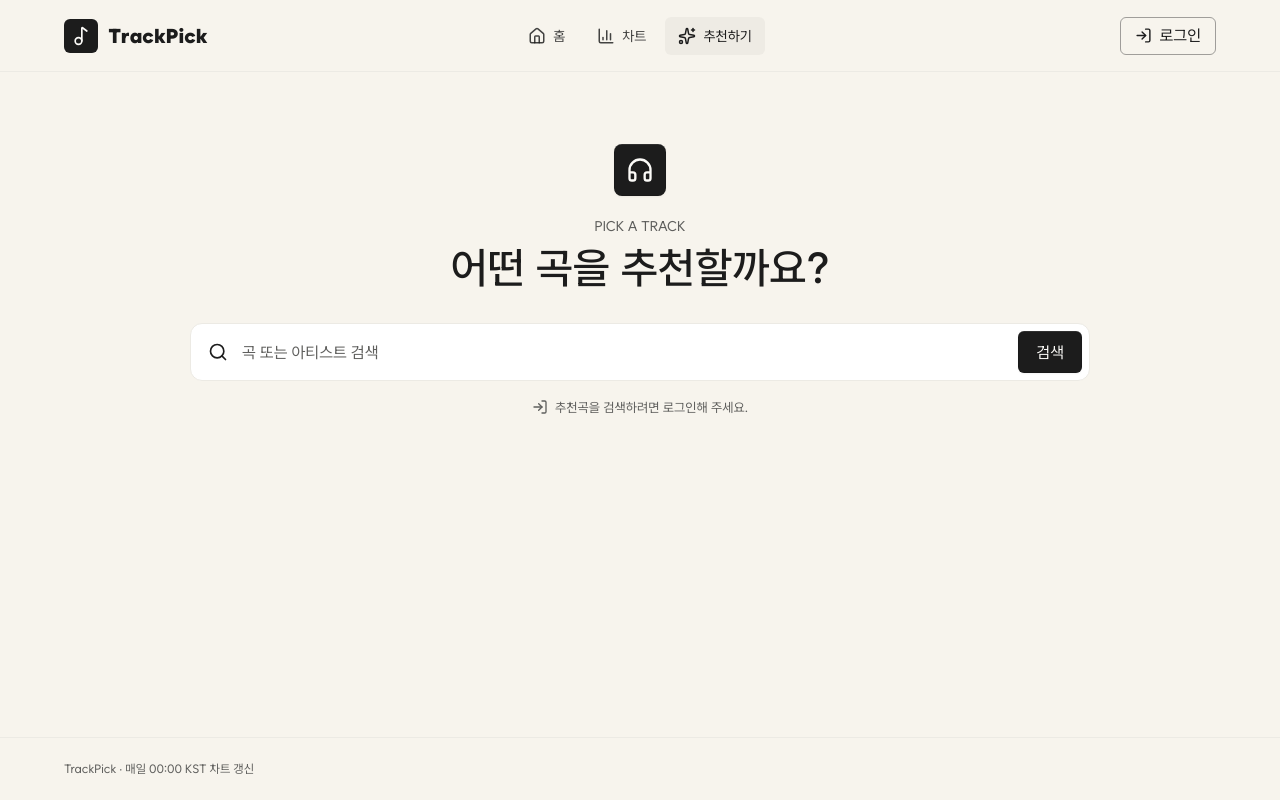
TrackPick app shell › lets signed-out visitors type a search and asks them to log in on submit
Type "한로로" into the field labelled "곡 또는 아티스트 검색". click: (623,352)
box: [240,342,1006,363]
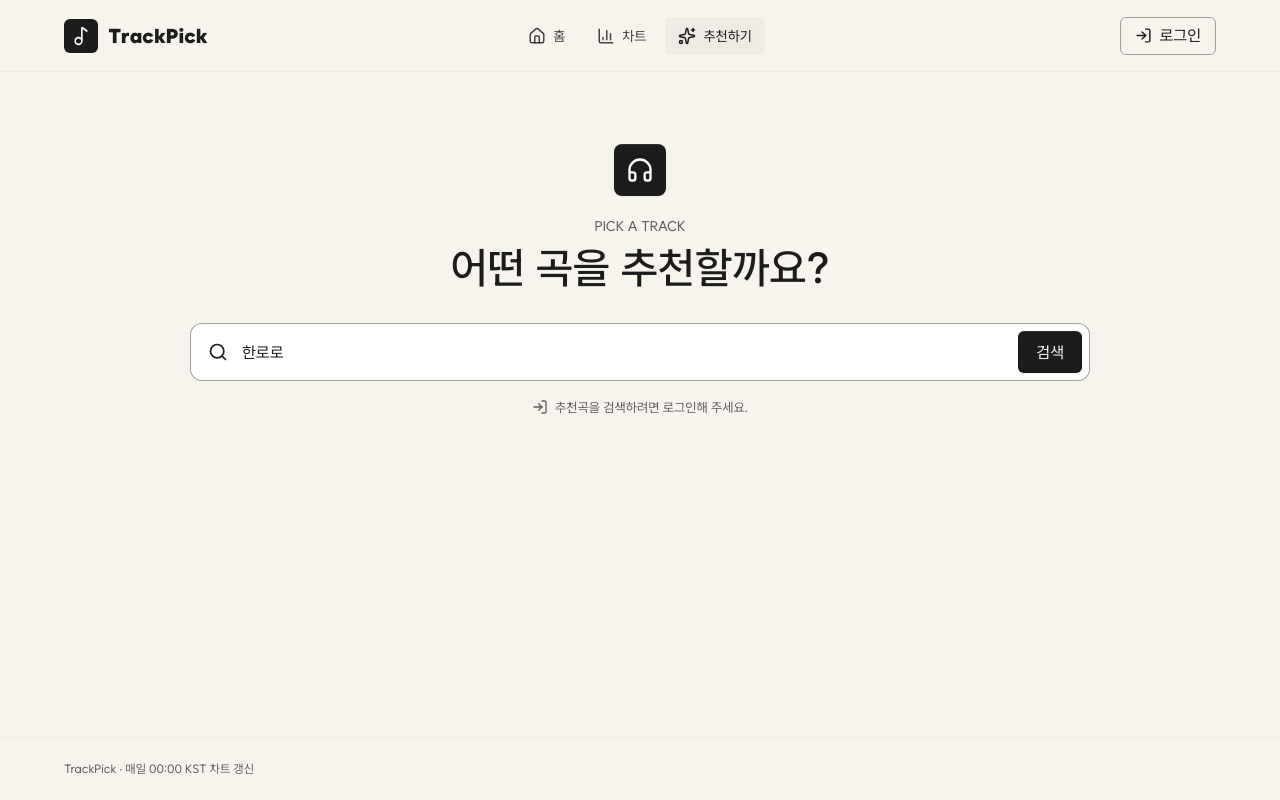
Click the button "검색". click: (1050,352)
box: [1018,331,1082,373]
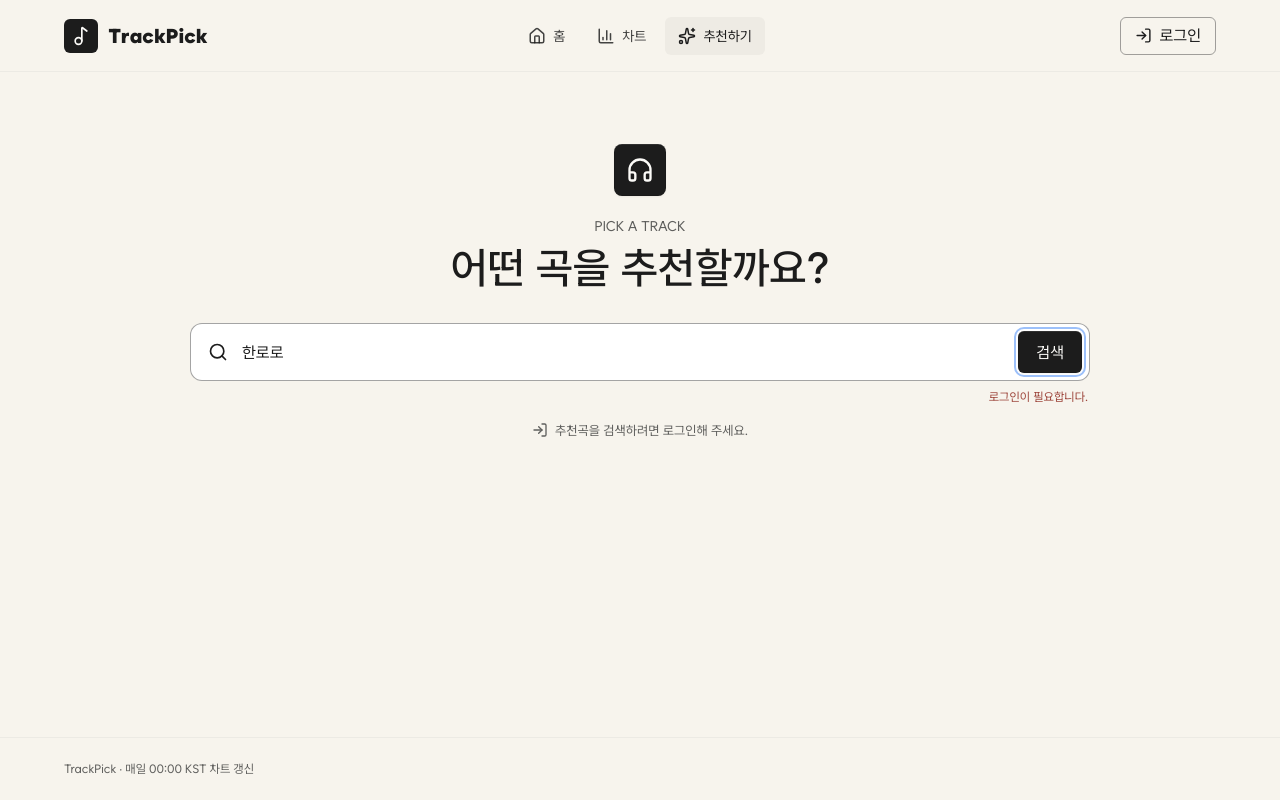
Expected: the message reads "로그인이 필요합니다.", [989,390,1088,404]
